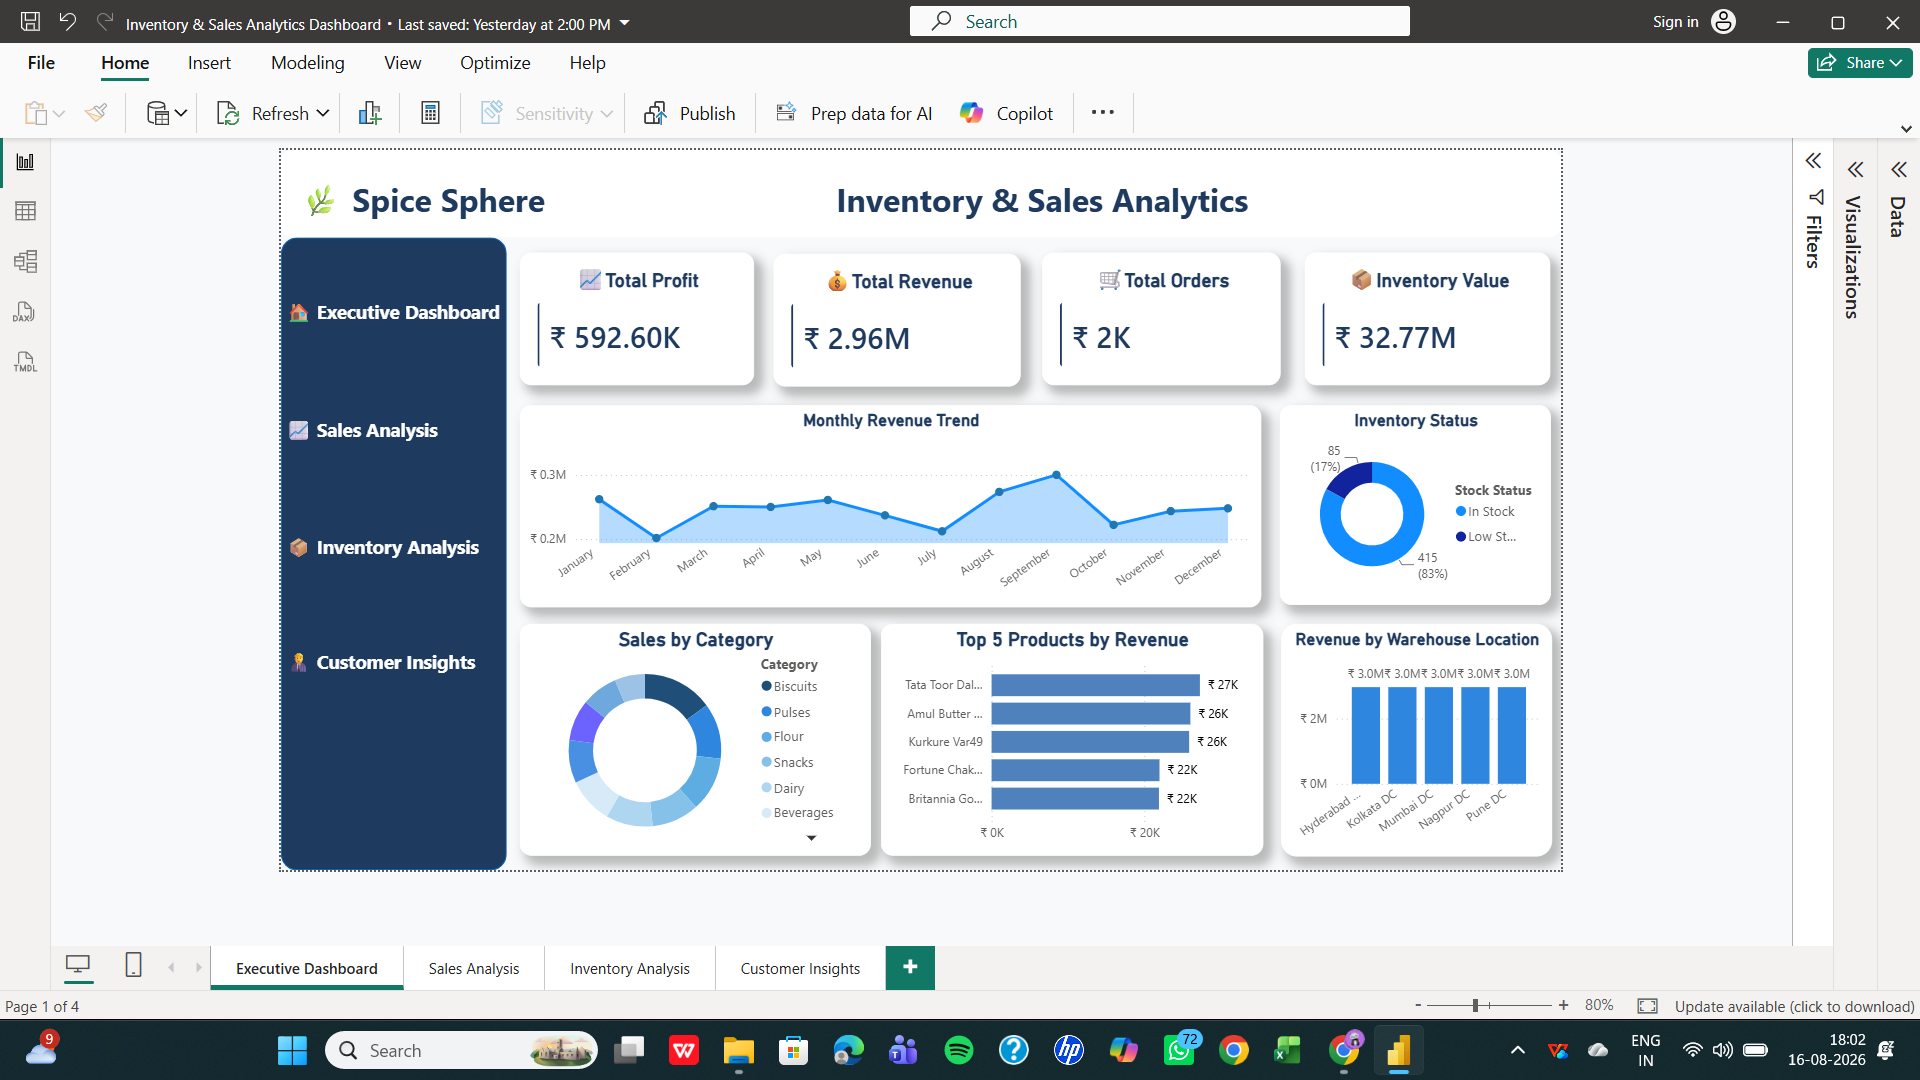

The page's visual inventory and layout, read from the dashboard file:
{"tool":"powerbi","page":{"name":"Executive Dashboard","canvas":[1280,720],"ordinal":0},"visuals":[{"type":"textbox","box":[0,0,1280,87.5],"z":0},{"type":"cardVisual","title":"📈Total Profit","fields":{"Data":["Sales.Total Profit"]},"box":[238.6,102.9,234.3,132.9],"z":1000},{"type":"cardVisual","title":"💰Total Revenue","fields":{"Data":["Sales.Total Revenue"]},"box":[492.9,104.3,247.1,132.9],"z":2000},{"type":"cardVisual","title":"🛒Total Orders","fields":{"Data":["Sales.Total Orders"]},"box":[761.4,102.9,238.6,132.9],"z":3000},{"type":"cardVisual","title":"📦Inventory Value","fields":{"Data":["Sales.Inventory Value"]},"box":[1024.3,102.9,245.7,132.9],"z":4000},{"type":"lineChart","title":"Monthly Revenue Trend","fields":{"Y":["Sum(Sales.Revenue)"],"Category":["Sales.Date.Variation.Date Hierarchy.Month"]},"box":[239,255.2,741.4,202.6],"z":5000},{"type":"donutChart","title":"Inventory Status","fields":{"Category":["Inventory.Stock Status"],"Y":["CountNonNull(Inventory.Inventory_ID)"]},"box":[999.4,255.2,271.5,199.9],"z":6000},{"type":"donutChart","title":"Sales by Category","fields":{"Category":["Products.Category"],"Y":["Sum(Sales.Revenue)"]},"box":[239,474,351.1,232.3],"z":7000},{"type":"clusteredBarChart","title":"Top 5 Products by Revenue","fields":{"Y":["Sum(Sales.Revenue)"],"Category":["Products.Product_Name"]},"box":[599.6,474,382.2,232.3],"z":8000},{"type":"clusteredColumnChart","title":"Revenue by Warehouse Location","fields":{"Category":["Warehouses.Warehouse_Name"],"Y":["Sales.Total Revenue"]},"box":[1000,474.3,271.4,232.9],"z":9000},{"type":"shape","box":[0,87.1,225.7,632.9],"z":10000},{"type":"textbox","box":[0,262.9,205.3,51.3],"z":11000},{"type":"textbox","box":[0,378.5,205.7,51.4],"z":12000},{"type":"textbox","box":[0,494.3,205.3,51.3],"z":13000},{"type":"textbox","box":[0,144.3,238.6,54.3],"z":14000}]}

Visuals, with their boxes on the page's 1280x720 design canvas (x1, y1, x2, y2). These are canvas units, not pixel positions in the 1920x1080 screenshot, which may show the page scaled, cropped or inside an application window:
textbox: <region>0, 0, 1280, 88</region>
"📈Total Profit" cardVisual: <region>239, 103, 473, 236</region>
"💰Total Revenue" cardVisual: <region>493, 104, 740, 237</region>
"🛒Total Orders" cardVisual: <region>761, 103, 1000, 236</region>
"📦Inventory Value" cardVisual: <region>1024, 103, 1270, 236</region>
"Monthly Revenue Trend" lineChart: <region>239, 255, 980, 458</region>
"Inventory Status" donutChart: <region>999, 255, 1271, 455</region>
"Sales by Category" donutChart: <region>239, 474, 590, 706</region>
"Top 5 Products by Revenue" clusteredBarChart: <region>600, 474, 982, 706</region>
"Revenue by Warehouse Location" clusteredColumnChart: <region>1000, 474, 1271, 707</region>
shape: <region>0, 87, 226, 720</region>
textbox: <region>0, 263, 205, 314</region>
textbox: <region>0, 378, 206, 430</region>
textbox: <region>0, 494, 205, 546</region>
textbox: <region>0, 144, 239, 199</region>
